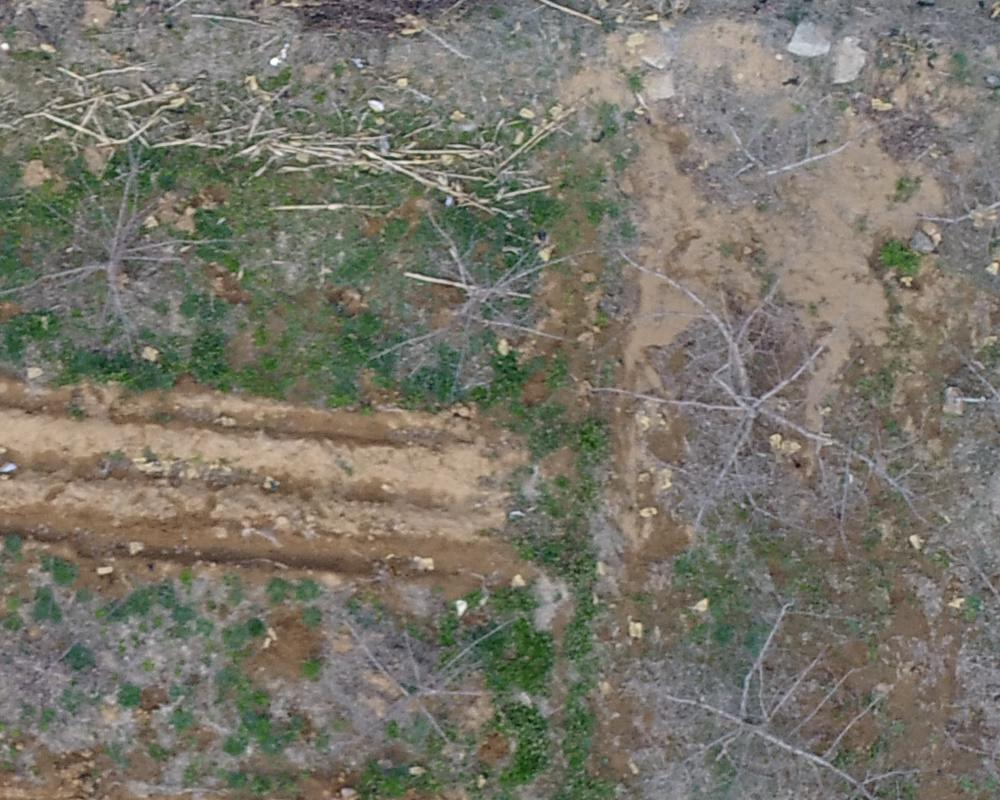apple: (592, 251, 858, 526), (637, 580, 923, 790), (10, 150, 221, 371), (366, 194, 574, 409), (303, 591, 529, 781)
